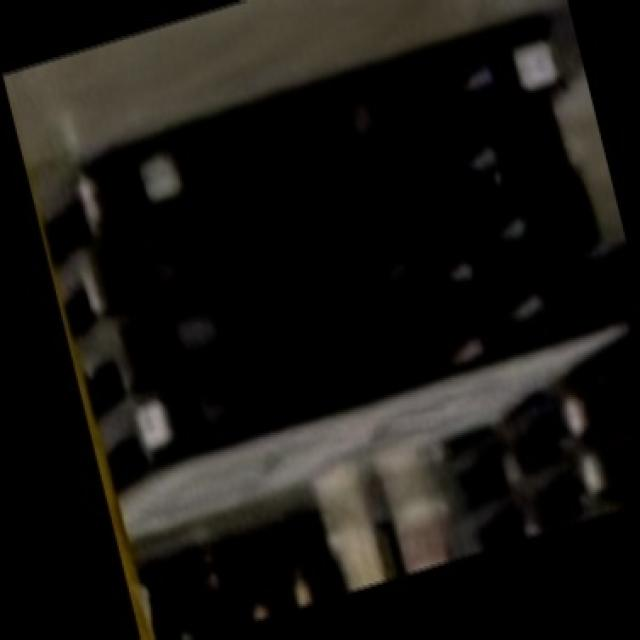igps: (109, 308, 640, 554), (63, 0, 577, 254)
